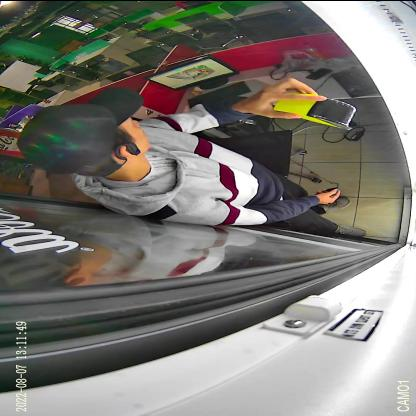yellow: (274, 92, 358, 130)
